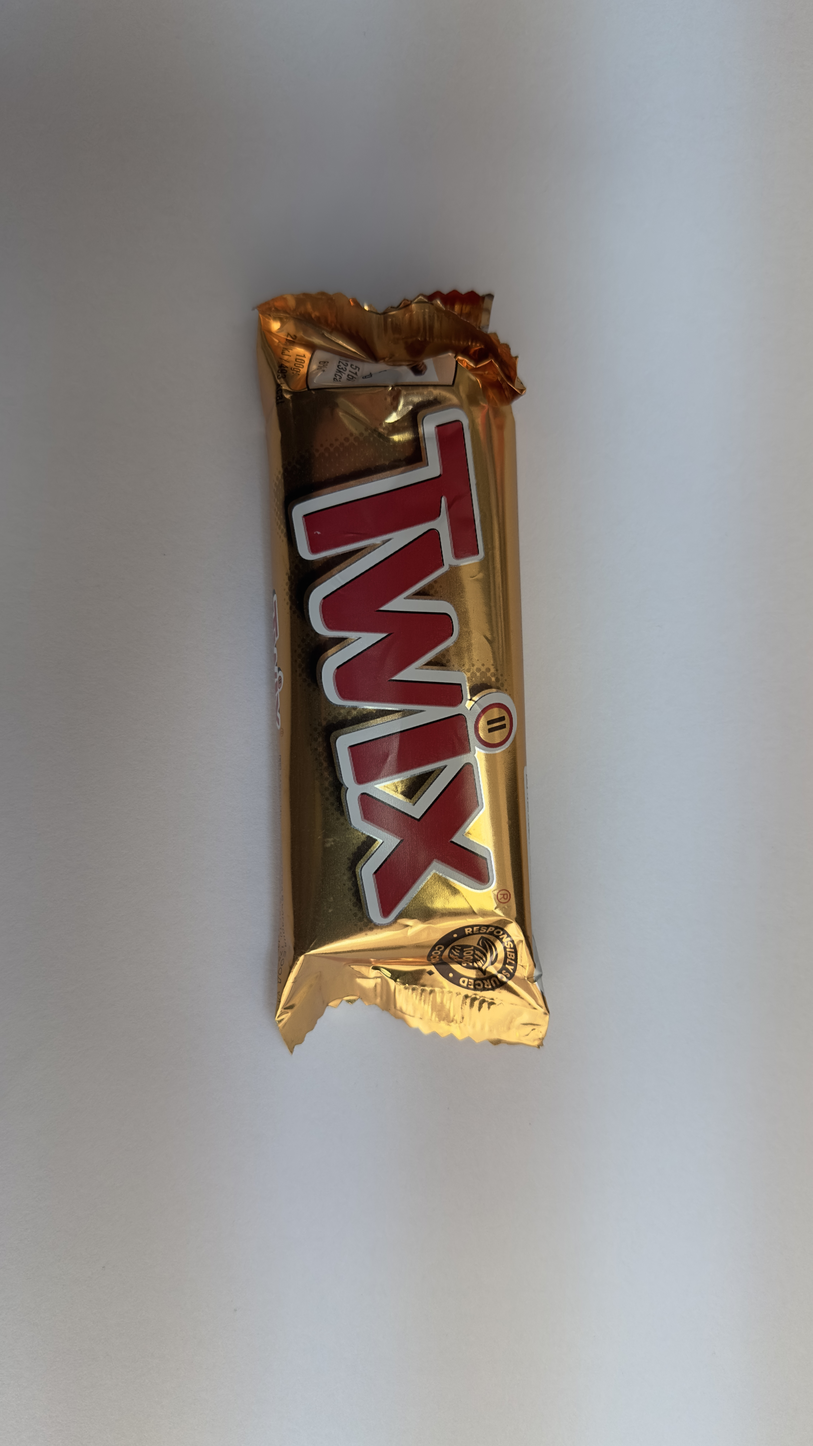TWIX: (256, 305, 506, 1040)
